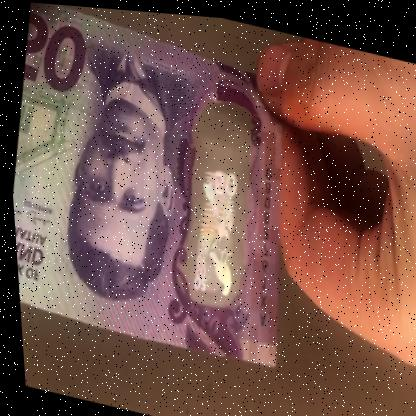50F: (174, 119, 256, 302)
